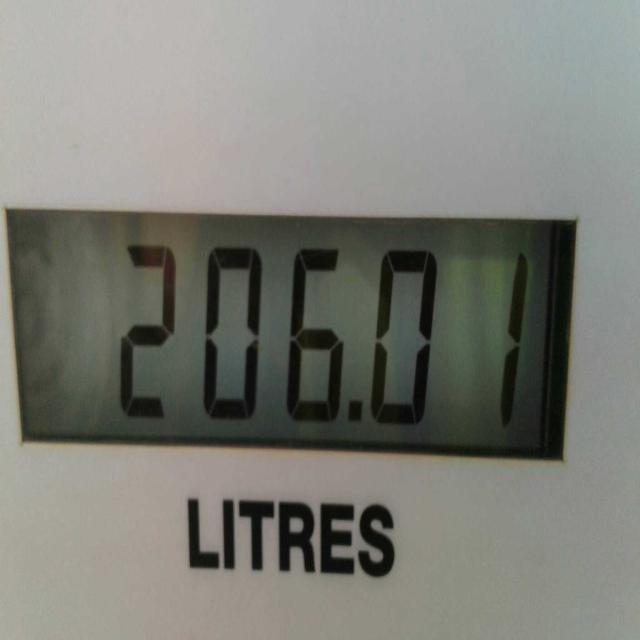.: (350, 399, 361, 422)
0: (372, 246, 433, 426), (206, 248, 260, 427)
1: (504, 249, 530, 435)
2: (121, 243, 174, 422)
6: (291, 247, 343, 421)
